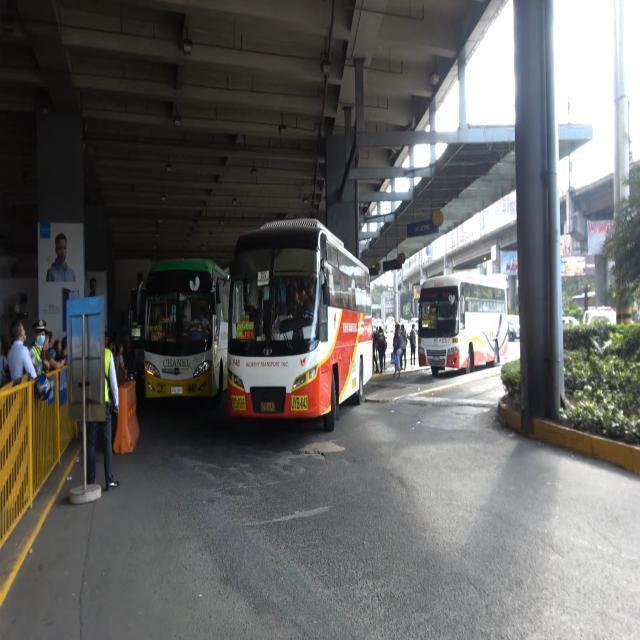bus: (228, 213, 376, 434), (139, 250, 230, 408), (418, 272, 510, 377)
